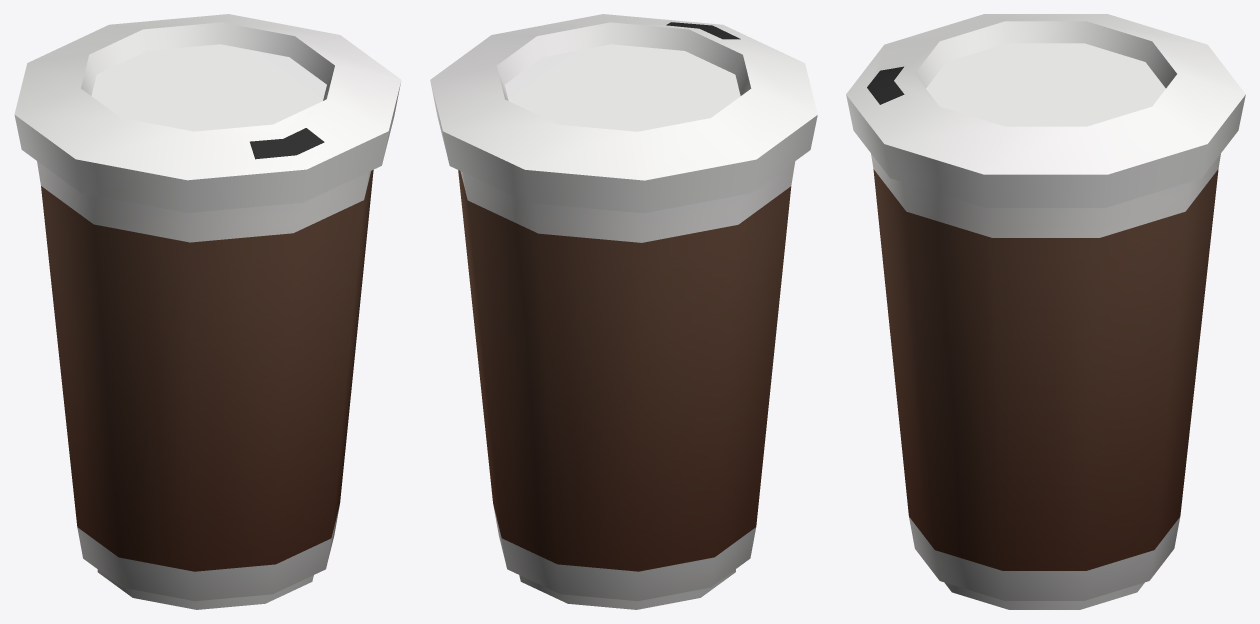
Rendered from VendingCupCoffee_Grande.fbx.
The picture shows the model from 3 angles, left to right: view 1: azimuth 30°, elevation 25°; view 2: azimuth 150°, elevation 25°; view 3: azimuth 270°, elevation 25°; orthographic projection.
Parts seen in each view (by area): view 1: VendingCupCoffee_Grande; view 2: VendingCupCoffee_Grande; view 3: VendingCupCoffee_Grande.
Part boxes in pixels (<box>): VendingCupCoffee_Grande: <box>14,14,401,609</box>; VendingCupCoffee_Grande: <box>430,14,817,609</box>; VendingCupCoffee_Grande: <box>846,14,1245,609</box>.
Bounding box in the file's own units: 12.6 × 17.91 × 13.25.
